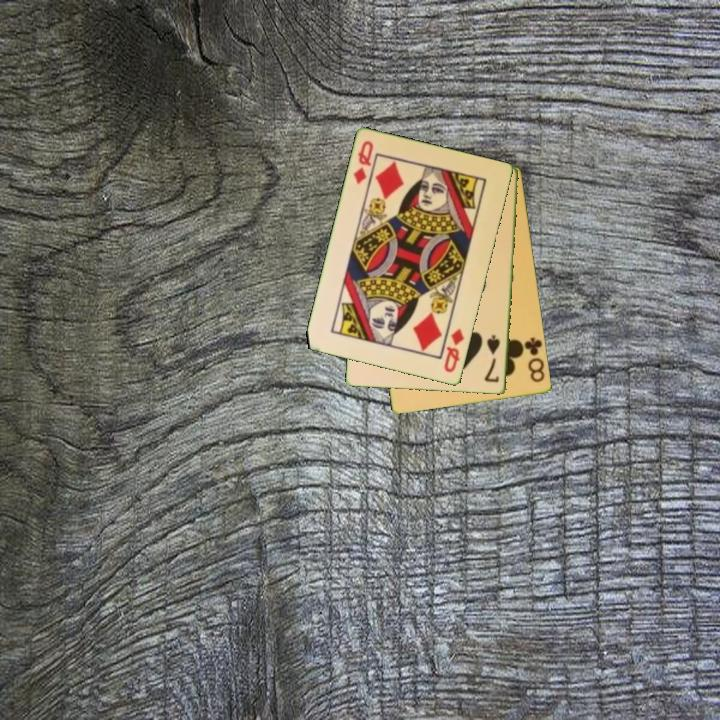7s: (482, 332, 503, 386)
8c: (519, 334, 548, 385)
Qd: (441, 325, 468, 376), (350, 138, 376, 188)
